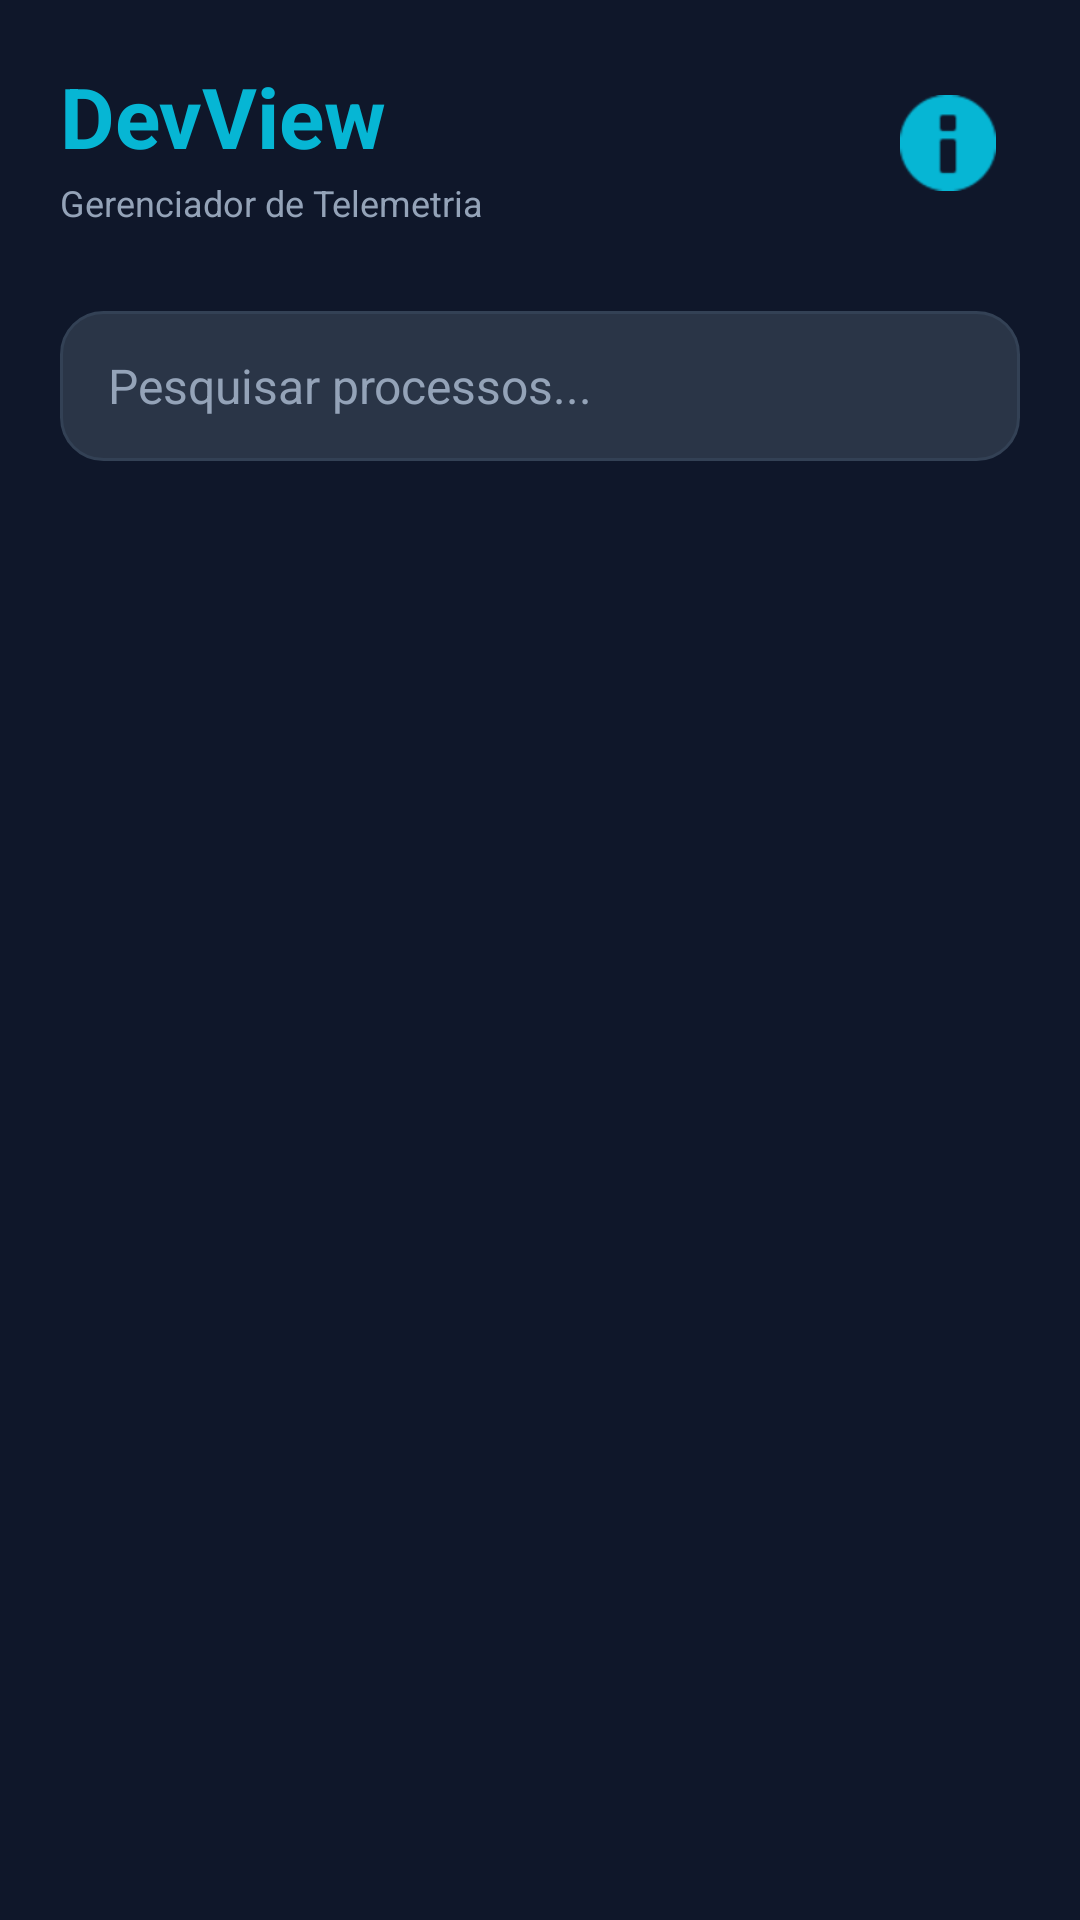

Point at icon controls on the screen. Image size 1080 x 1920, points as point (x, y).
Sobre: point (948, 143)
